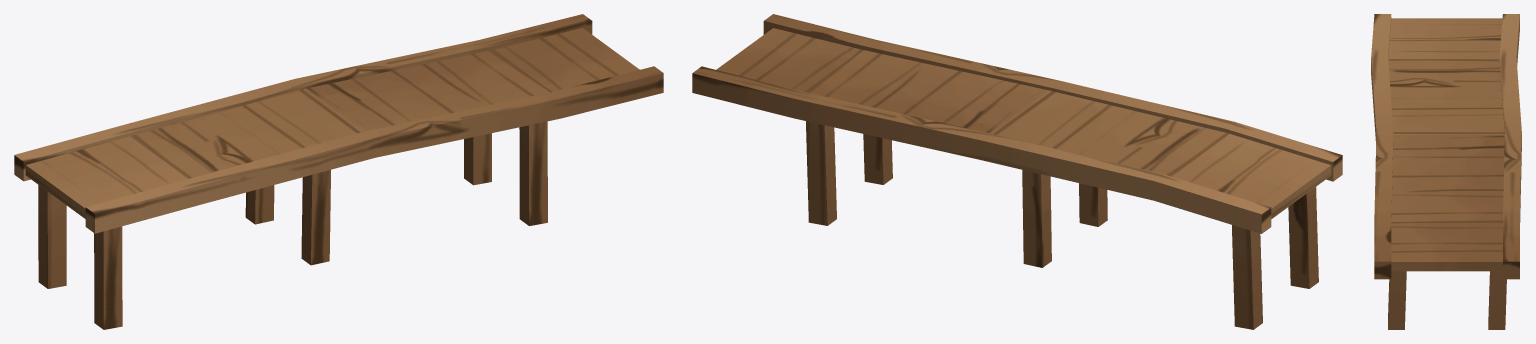
File: Deck_Short.fbx
3 views of the same model, side by side, from view 1: azimuth 30°, elevation 25°; view 2: azimuth 150°, elevation 25°; view 3: azimuth 270°, elevation 25° (orthographic). The views are drawn at different scales.
Parts seen in each view (by area): view 1: Deck1; view 2: Deck1; view 3: Deck1.
Boxes of the visible parts, x1,y1,x2,y2 form: Deck1: [14, 14, 663, 329]; Deck1: [692, 14, 1342, 329]; Deck1: [1371, 14, 1521, 329].
Bounding box in the file's own units: 8.36 × 1.87 × 2.13.
Materials: 1 (1 with a texture image).
